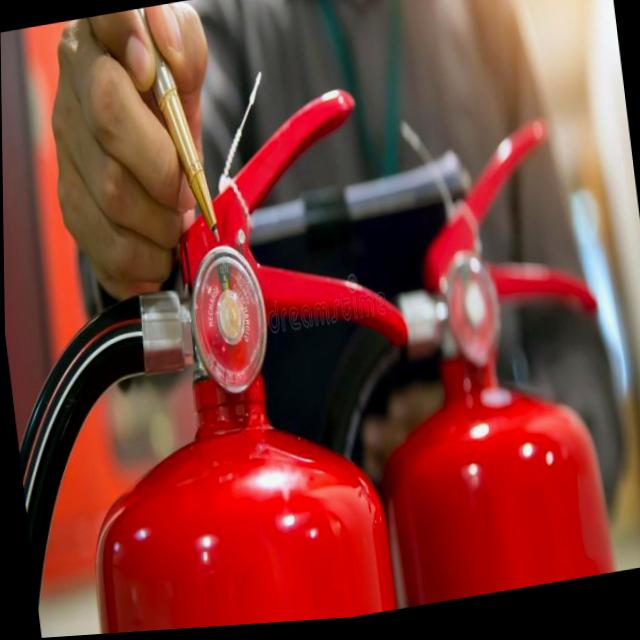FireExtinguisher: (1, 68, 440, 640), (274, 110, 631, 626)
